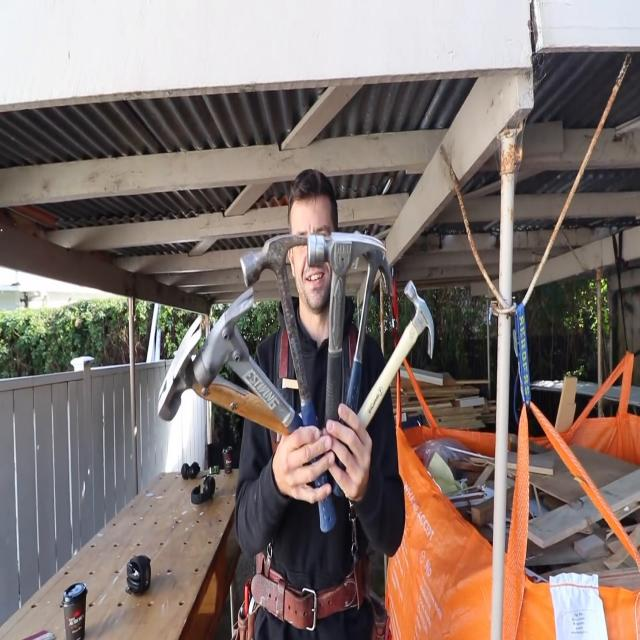hammer: (239, 229, 339, 535), (306, 201, 393, 483), (188, 282, 308, 434), (156, 310, 289, 438), (349, 279, 435, 426), (344, 224, 393, 442)
